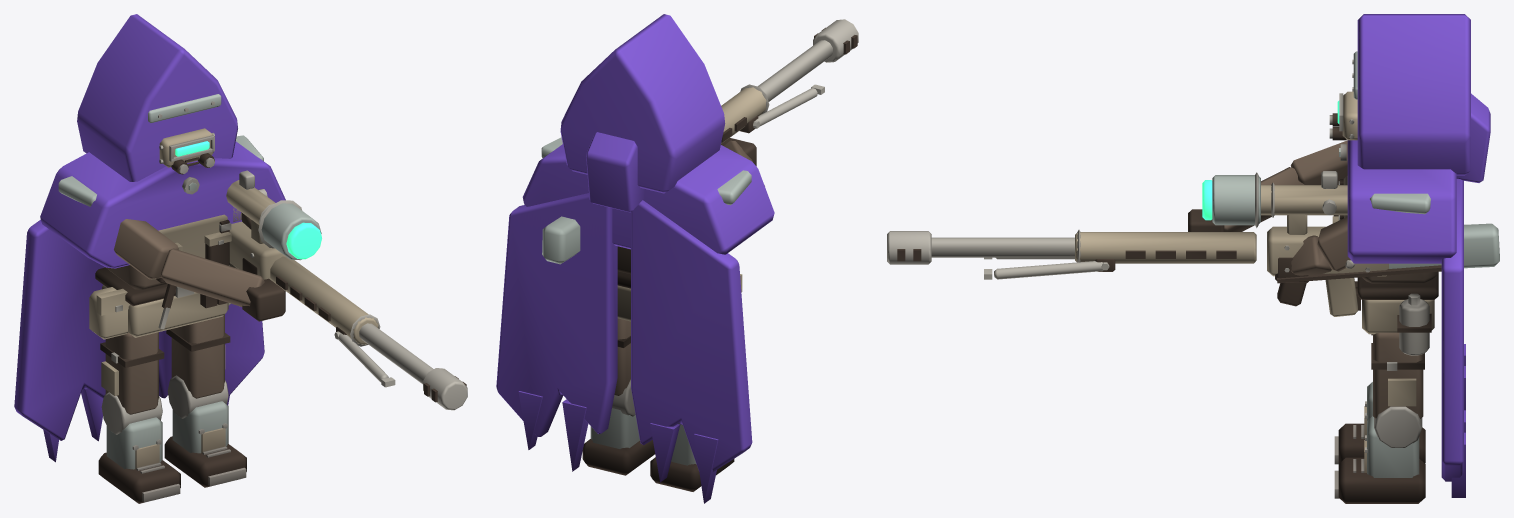
Rendered from stalker.glb.
3 renders of one model, left to right at view 1: azimuth 30°, elevation 25°; view 2: azimuth 150°, elevation 25°; view 3: azimuth 270°, elevation 25°, orthographic. The views are drawn at different scales.
Parts seen in each view (by area): view 1: Split_cape, Hood, Mantle, Forearms, Upper_leg.001, Upper_leg, Barrel_shroud, Arms, Pelvis, Rig_detail, Boot, Boot.001 (+24 smaller); view 2: Split_cape, Hood, Mantle, Hem_tatters, Hood_tail, Boot.001, Barrel_long, Rifle_stock, Shin.001, Barrel_shroud, Boot, Muzzle_brake (+6 smaller); view 3: Hood, Mantle, Split_cape, Barrel_shroud, Barrel_long, Boot.001, Arms, Scope_tube, Upper_leg.001, Scope_bell, Shin.001, Forearms (+19 smaller).
Boxes of the visible parts, x1,y1,x2,y2 form: Split_cape: [14, 219, 264, 440]; Hood: [77, 14, 237, 181]; Mantle: [40, 141, 285, 268]; Forearms: [160, 248, 264, 306]; Upper_leg.001: [171, 314, 224, 398]; Upper_leg: [105, 332, 158, 414]; Barrel_shroud: [270, 256, 378, 344]; Arms: [114, 212, 251, 279]; Pelvis: [102, 285, 228, 337]; Rig_detail: [115, 101, 395, 387]; Boot: [98, 452, 180, 503]; Boot.001: [164, 436, 246, 487]; Split_cape: [496, 193, 752, 471]; Hood: [560, 14, 725, 193]; Mantle: [522, 144, 774, 254]; Hem_tatters: [518, 391, 718, 503]; Hood_tail: [586, 132, 644, 212]; Boot.001: [582, 439, 655, 475]; Barrel_long: [758, 40, 832, 101]; Rifle_stock: [542, 216, 580, 264]; Shin.001: [590, 408, 639, 448]; Barrel_shroud: [721, 87, 766, 143]; Boot: [650, 457, 734, 491]; Muzzle_brake: [813, 19, 858, 62]; Hood: [1357, 14, 1470, 175]; Mantle: [1347, 140, 1456, 263]; Split_cape: [1441, 178, 1463, 481]; Barrel_shroud: [1075, 232, 1256, 263]; Barrel_long: [931, 237, 1074, 257]; Boot.001: [1338, 457, 1425, 503]; Arms: [1290, 140, 1350, 271]; Scope_tube: [1261, 185, 1347, 215]; Upper_leg.001: [1373, 332, 1423, 418]; Scope_bell: [1212, 175, 1260, 225]; Shin.001: [1367, 416, 1419, 477]; Forearms: [1224, 167, 1331, 275].
Bounding box in the file's own units: 1.48 × 2.52 × 3.03.
